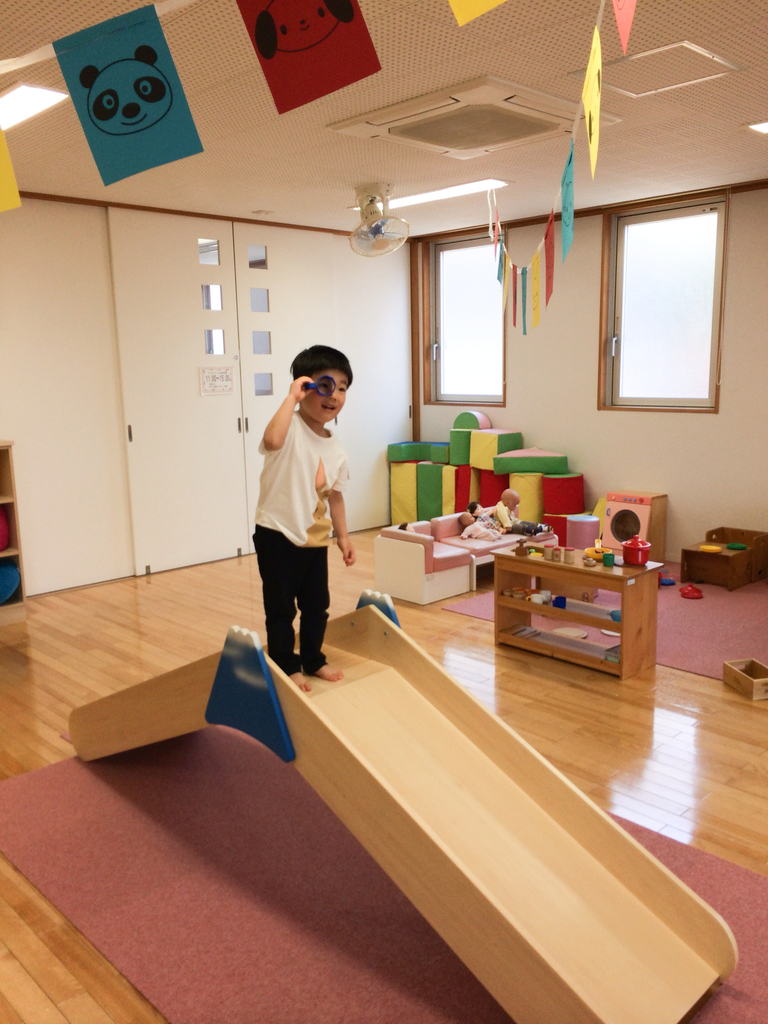Person: (254, 344, 357, 692)
